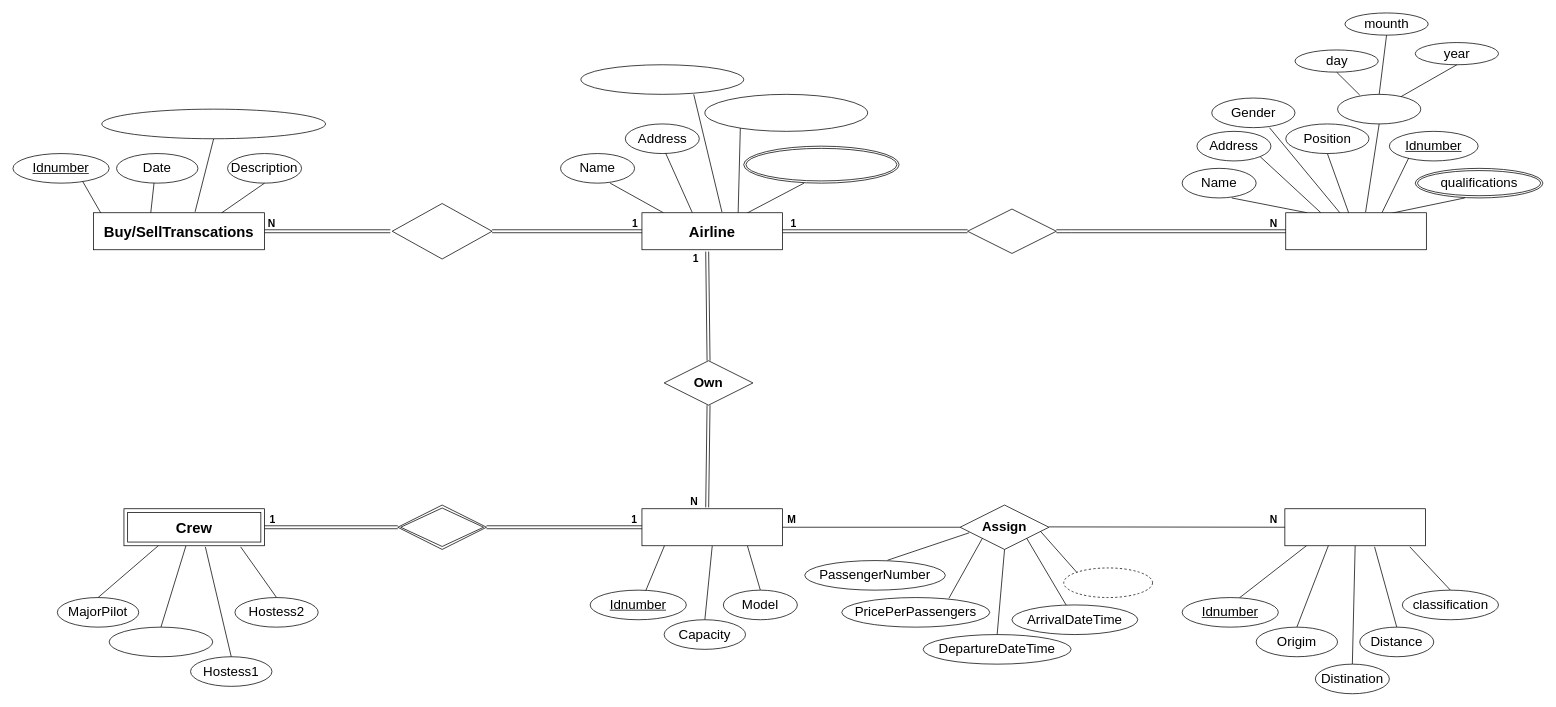
Some shapes in this 1556 by 707 pixel diagram are drawn without their labels. The box of each missing label's shape, as (x1, y1, x2, y2) in pixels:
Aircraft: (641, 508, 783, 546)
AmountOfMonyPaid/Received: (101, 108, 326, 139)
AssistantPilot: (108, 626, 213, 657)
Birthday: (1337, 94, 1421, 124)
ContactPersonName: (580, 64, 744, 94)
Employee: (1285, 212, 1426, 250)
has: (397, 504, 487, 549)
IdentificationNumber: (704, 94, 868, 131)
Keep Information: (391, 203, 492, 259)
Route: (1284, 508, 1425, 546)
TelephoneNumber: (743, 145, 899, 183)
TimeSpent: (1063, 567, 1153, 598)
WorksIn: (967, 208, 1056, 253)
